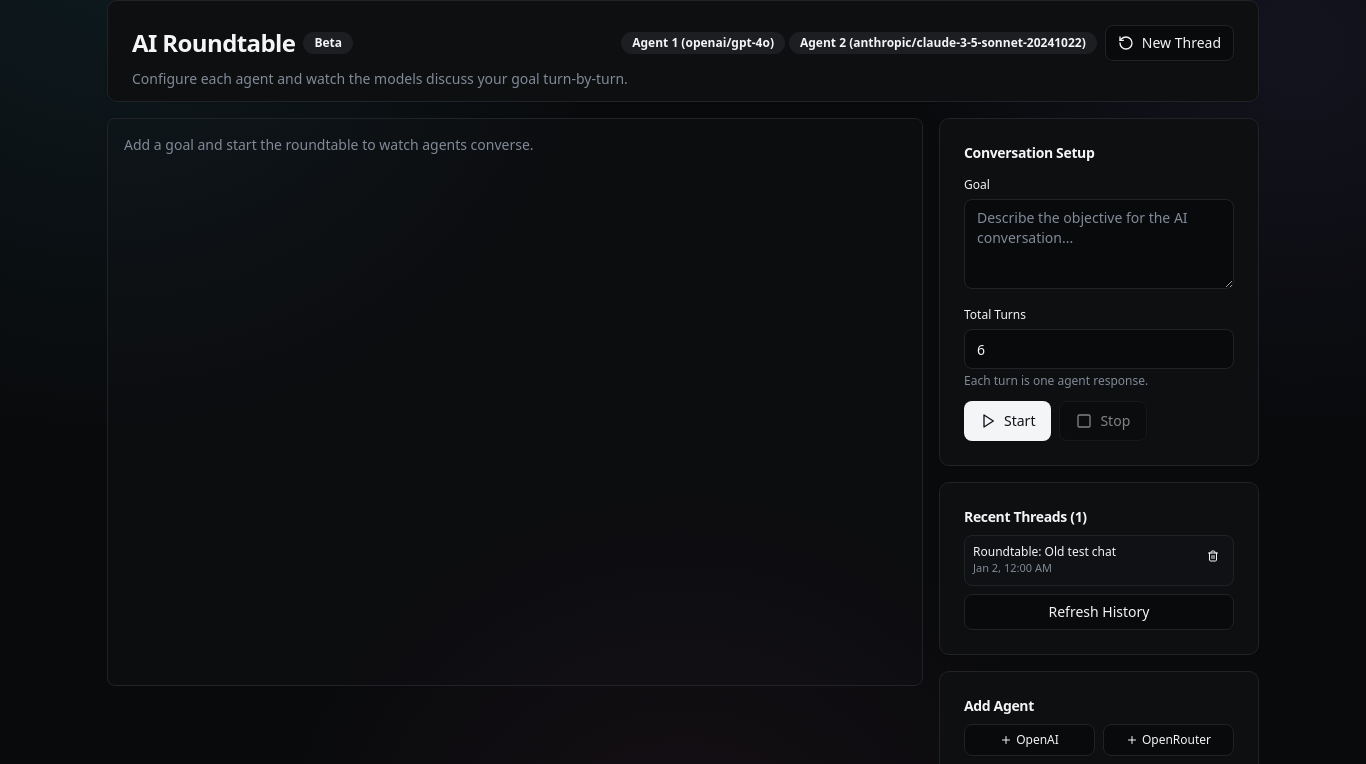
AIRoundtablePage history behavior › shows saved cancelled generation status on reload
Click the button "Roundtable: Old test chat" at (1083, 560), box [973,544,1193,576]
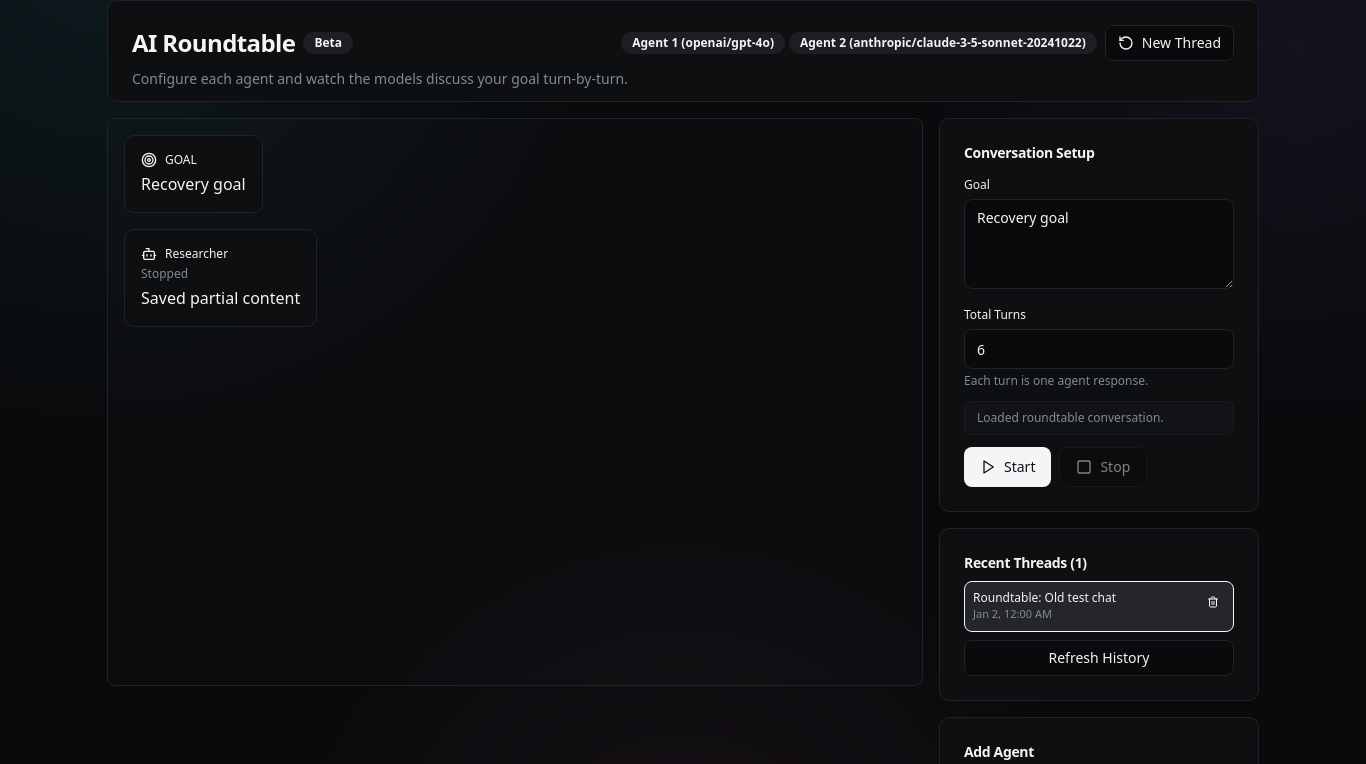
Result: the text "Saved partial content" is shown at [141,286,300,310]
Result: the text "Stopped" is shown at [141,265,188,282]
